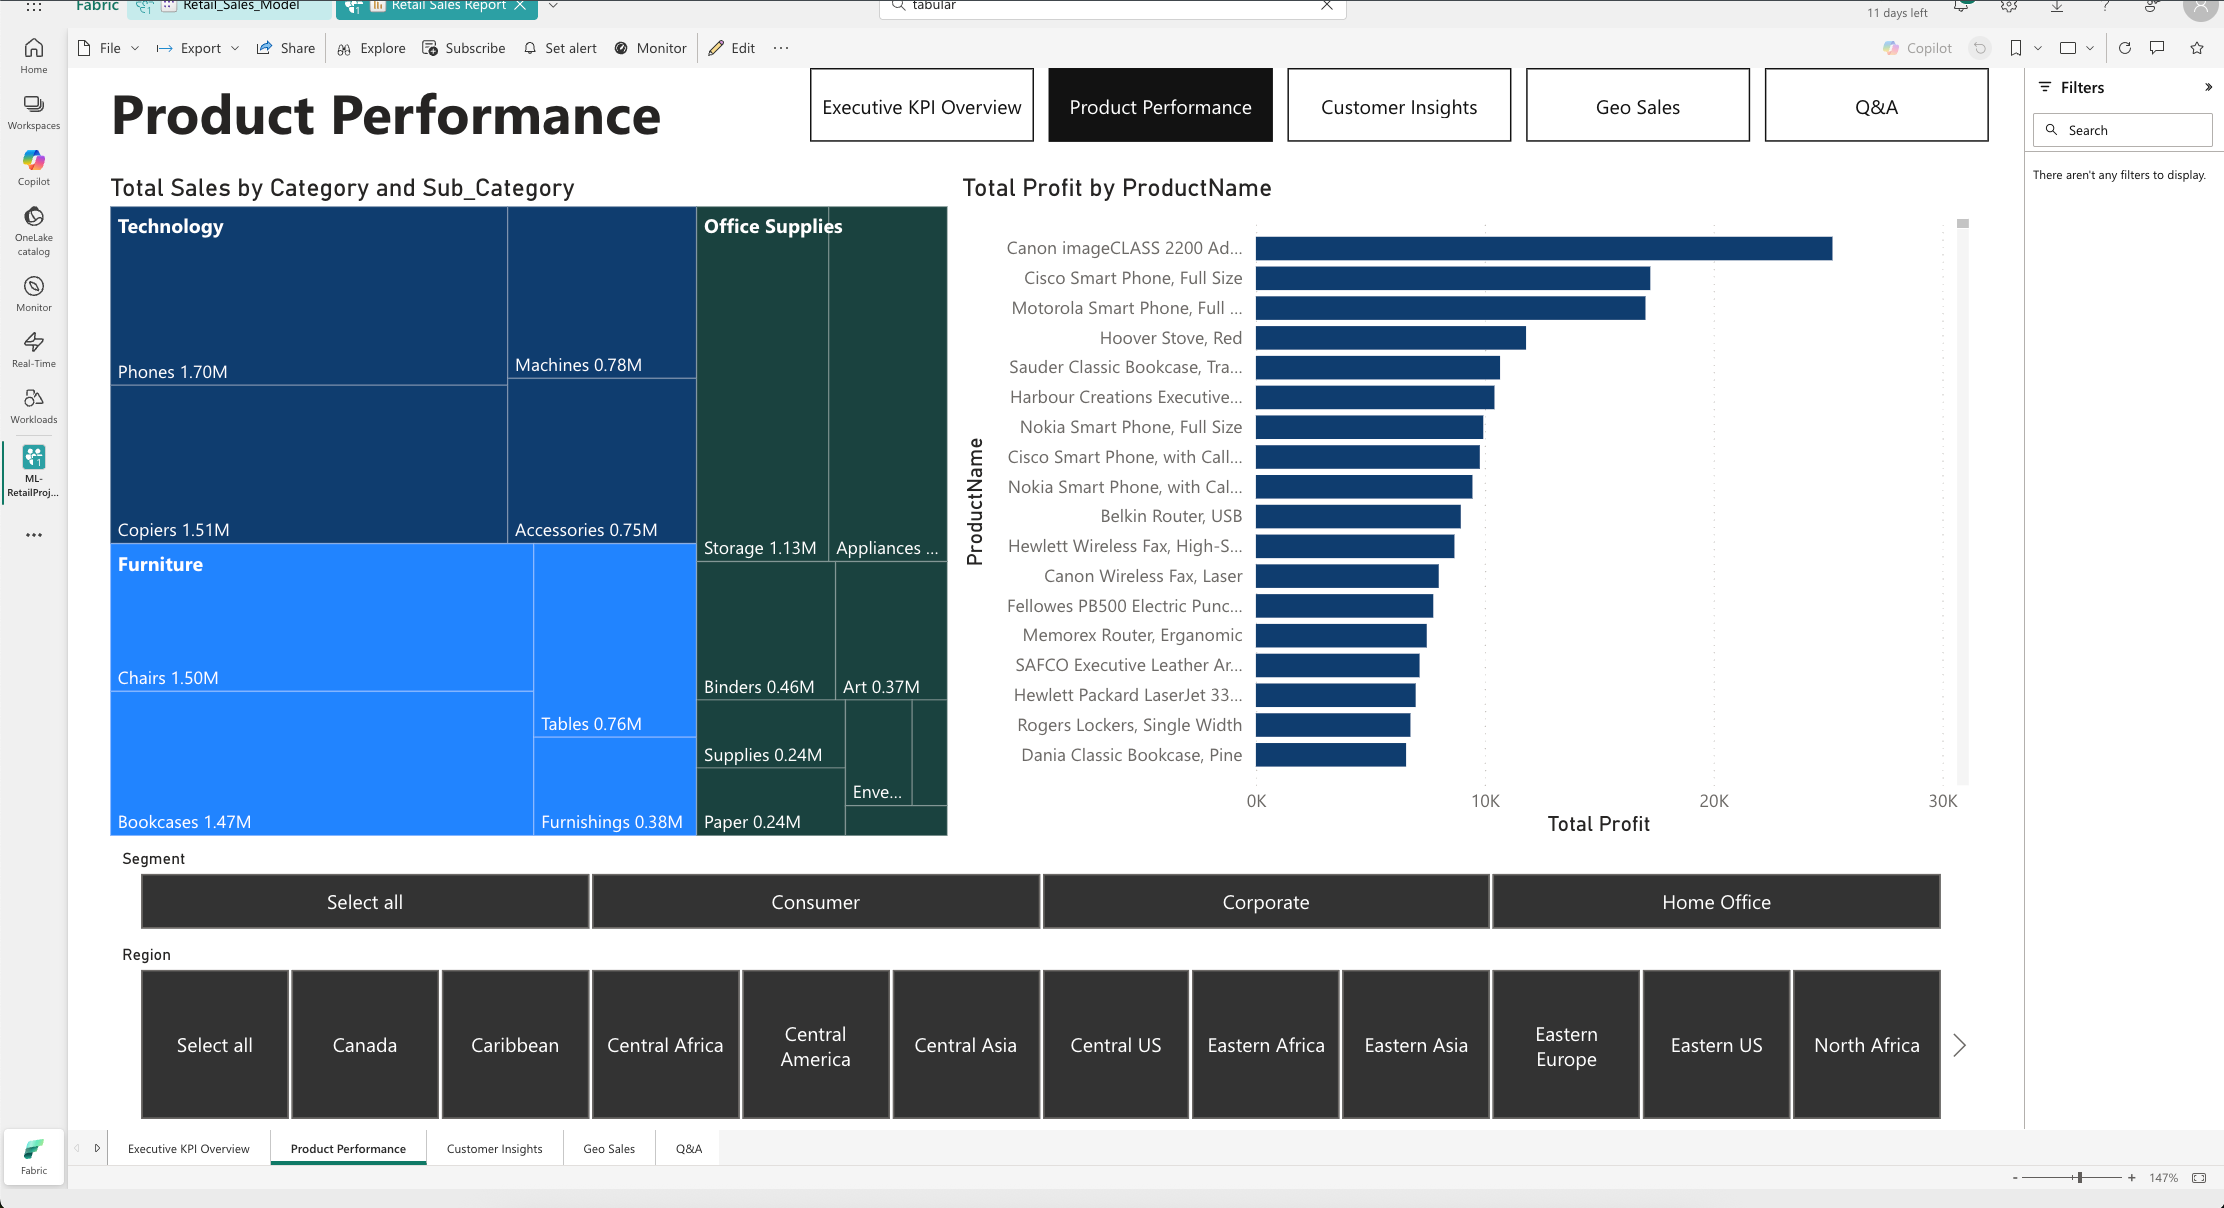

The page's visual inventory and layout, read from the dashboard file:
{"tool":"powerbi","page":{"name":"Product Performance","canvas":[1280,720],"ordinal":1},"visuals":[{"type":"treemap","fields":{"Group":["gold_dim_product.Category"],"Values":["gold_fact_sales.Total Sales"],"Details":["gold_dim_product.Sub_Category"]},"box":[0,74,578,452],"z":0},{"type":"barChart","fields":{"Category":["gold_dim_product.ProductName"],"Y":["gold_fact_sales.Total Profit"]},"box":[578,74,693,452],"z":1000},{"type":"slicer","fields":{"Values":["gold_dim_geo.Region"]},"box":[0,591,1271,129],"z":2000},{"type":"slicer","fields":{"Values":["gold_dim_customer.Segment"]},"box":[0,526,1271,65],"z":3000},{"type":"textbox","box":[0,0,400,74],"z":4000},{"type":"pageNavigator","box":[480,0,800,50],"z":5000}]}

Visuals, with their boxes on the page's 1280x720 design canvas (x1, y1, x2, y2). These are canvas units, not pixel positions in the 2224x1208 screenshot, which may show the page scaled, cropped or inside an application window:
treemap - gold_dim_product.Category x gold_fact_sales.Total Sales: bbox=(0, 74, 578, 526)
barChart - gold_dim_product.ProductName x gold_fact_sales.Total Profit: bbox=(578, 74, 1271, 526)
slicer - gold_dim_geo.Region: bbox=(0, 591, 1271, 720)
slicer - gold_dim_customer.Segment: bbox=(0, 526, 1271, 591)
textbox: bbox=(0, 0, 400, 74)
pageNavigator: bbox=(480, 0, 1280, 50)
